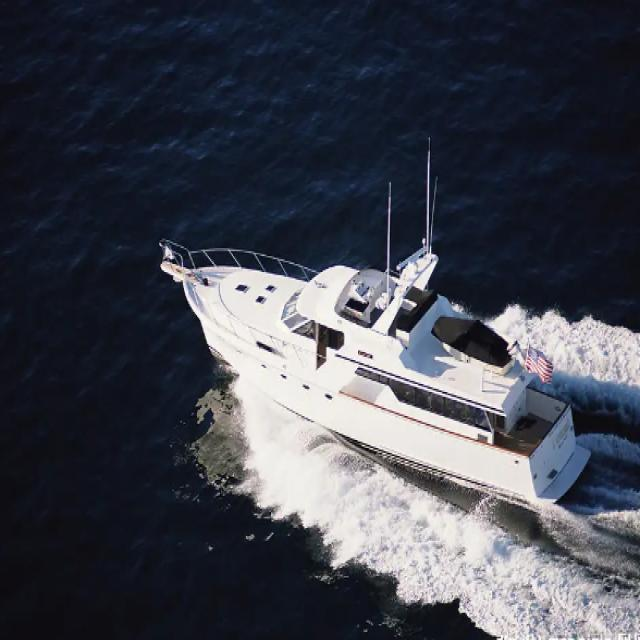houseboat: (157, 161, 604, 543)
